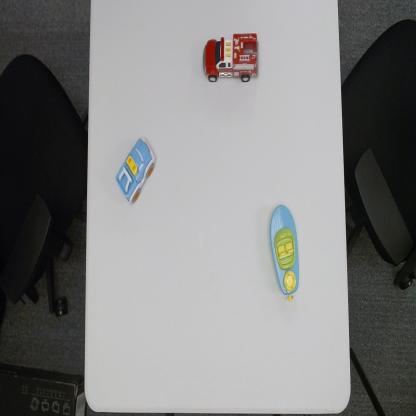Boat: (269, 204, 300, 304)
Car: (113, 134, 158, 207)
Firetruck: (202, 30, 260, 86)
